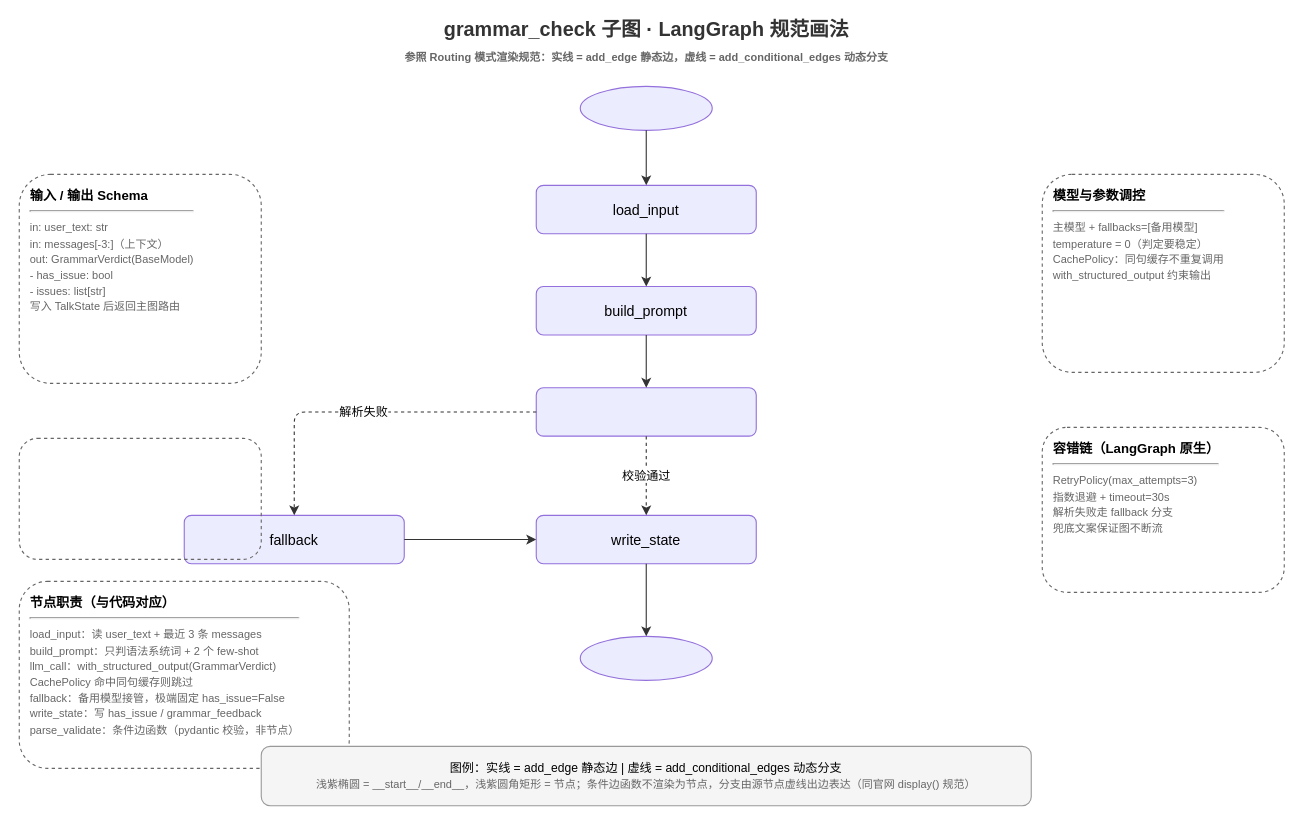
The diagram is 1304 pixels wide and 825 high, and some of its shapes have lost their labels. The shapes that lost their labels are listed below. From the top down, each one's centre as x and y in pixels, then its label:
[645,107]: __start__
[645,411]: llm_call
[139,498]: 可观测性 LangSmith 记录每次调用 token 用量与延迟统计
[645,657]: __end__
